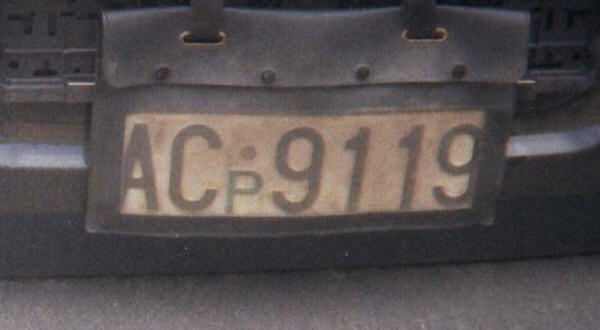license_plate: (115, 108, 486, 217)
